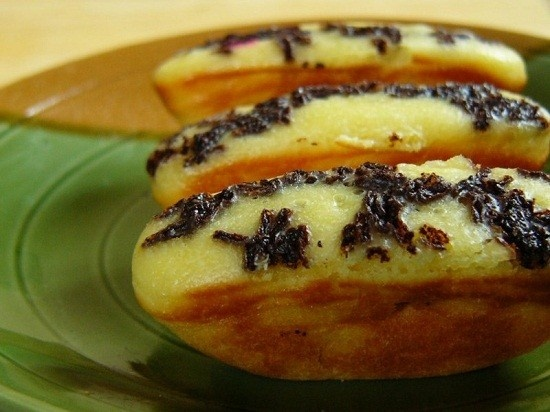pukis: (98, 159, 549, 385)
